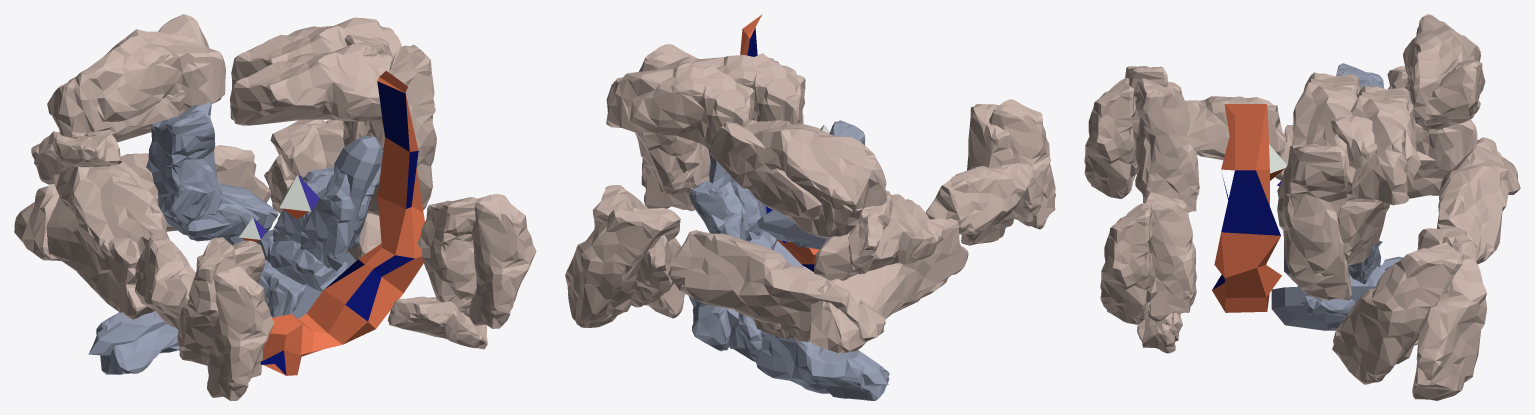
The model's file is otest4.gltf.
3 views of the same model, side by side, from view 1: azimuth 30°, elevation 25°; view 2: azimuth 150°, elevation 25°; view 3: azimuth 270°, elevation 25° (orthographic). The views are drawn at different scales.
Parts seen in each view (by area): view 1: Cube.012, Group55830.012, Group55830.010, Group55830, Group55830.006, Group55830.005, Group55830.002, Group55830.016, Group55830.024, Group55830.003, Group55830.007, Group55830.011 (+20 smaller); view 2: Group55830.003, Group55830.011, Group55830.009, Group55830.012, Group55830.002, Group55830.013, Group55830.017, Group55830.023, Group55830, Group55830.010, Group55830.004, Group55830.025 (+16 smaller); view 3: Cube.012, Group55830.008, Group55830.007, Group55830.009, Group55830.022, Group55830.011, Group55830.003, Group55830.006, Group55830.024, Group55830.005, Group55830.025, Group55830.012 (+12 smaller).
Boxes of the visible parts, x1,y1,x2,y2 form: Cube.012: (260,71,424,375); Group55830.012: (47,29,225,138); Group55830.010: (230,44,392,125); Group55830: (52,165,169,259); Group55830.006: (469,194,536,328); Group55830.005: (207,266,274,400); Group55830.002: (14,196,154,319); Group55830.016: (146,110,223,241); Group55830.024: (417,197,476,316); Group55830.003: (21,145,271,261); Group55830.007: (366,44,436,215); Group55830.011: (231,17,401,87); Group55830.003: (668,230,885,341); Group55830.011: (606,65,754,148); Group55830.009: (565,207,680,327); Group55830.012: (743,120,886,213); Group55830.002: (807,218,968,353); Group55830.013: (710,121,863,237); Group55830.017: (749,330,889,400); Group55830.023: (925,163,1034,234); Group55830: (814,194,940,280); Group55830.010: (690,53,805,123); Group55830.004: (989,99,1050,223); Group55830.025: (635,56,702,195); Cube.012: (1212,104,1281,312); Group55830.008: (1332,242,1463,384); Group55830.007: (1277,144,1351,300); Group55830.009: (1412,227,1487,400); Group55830.022: (1135,78,1199,212); Group55830.011: (1346,85,1420,205); Group55830.003: (1437,137,1508,263); Group55830.006: (1100,203,1157,324); Group55830.024: (1145,192,1196,321); Group55830.005: (1084,78,1137,198); Group55830.025: (1330,116,1389,265); Group55830.012: (1403,14,1481,123).
Size of the model in its own units: 22.34 by 17.2 by 23.61.
